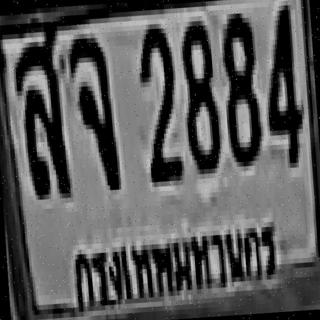A08: (67, 32, 118, 187)
A40: (10, 21, 68, 196)
N02: (135, 18, 181, 178)
N04: (258, 0, 303, 164)
N08: (219, 8, 261, 162), (178, 16, 219, 170)
P04: (60, 202, 284, 308)
